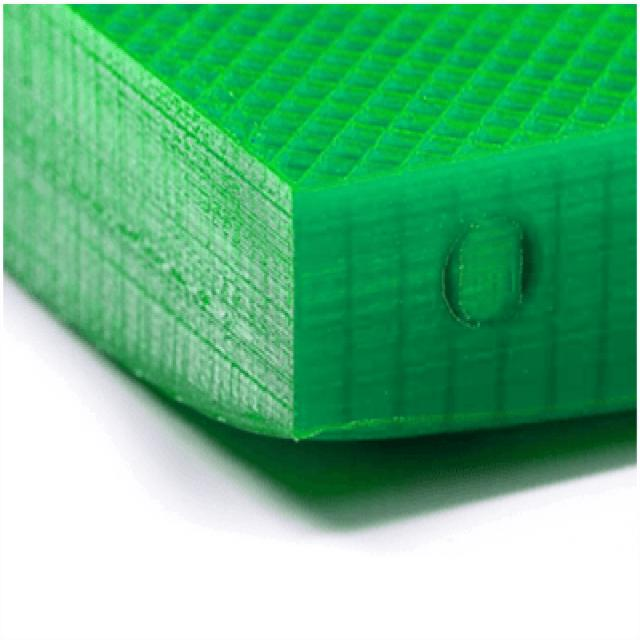Warping: (181, 371, 545, 515)
